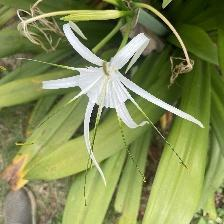spider lily: (64, 43, 159, 131)
